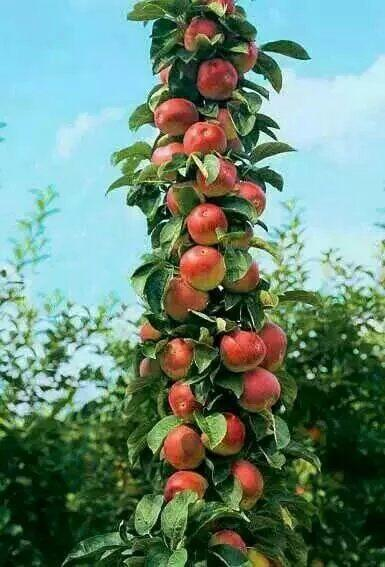apple: (180, 244, 226, 290), (219, 329, 267, 371), (163, 425, 205, 468), (237, 367, 279, 410), (204, 410, 246, 453), (166, 281, 209, 323), (197, 57, 237, 99), (187, 201, 227, 242), (228, 458, 262, 506), (197, 154, 236, 193), (183, 122, 227, 156), (153, 98, 197, 132), (160, 336, 193, 377), (161, 471, 207, 498), (169, 377, 196, 419)
